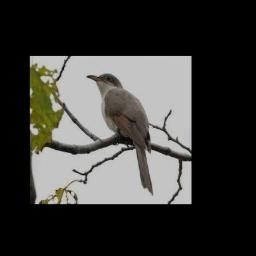Cuckoo: (86, 73, 153, 195)
